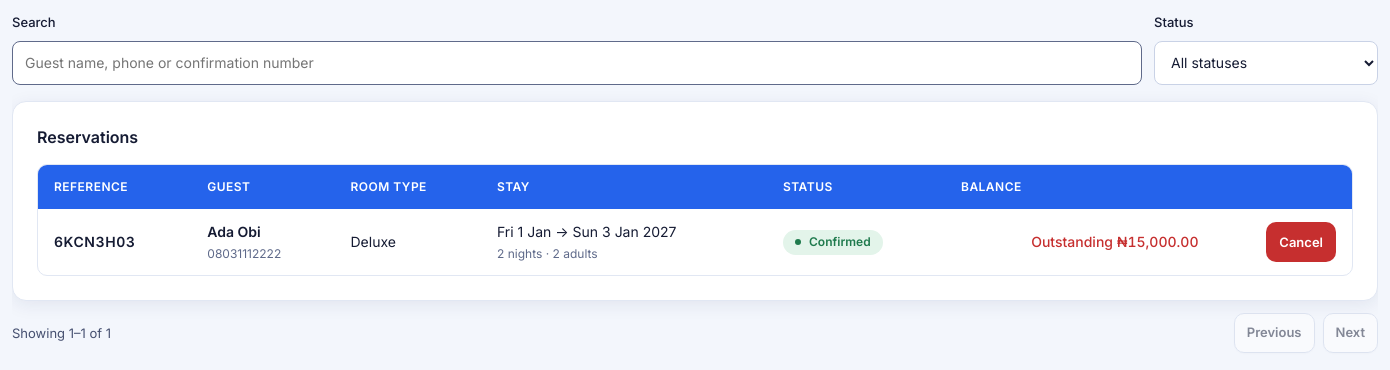
Test: <ReservationsListTab> › filters by status and says so when nothing matches
The width and height of the screenshot is (1390, 370).
Expected: the text "Ada Obi" is shown, left=207, top=223, right=261, bottom=240
Select "No-show" in the dropdown labelled "Status": {"x": 1266, "y": 63} left=1154, top=41, right=1378, bottom=85
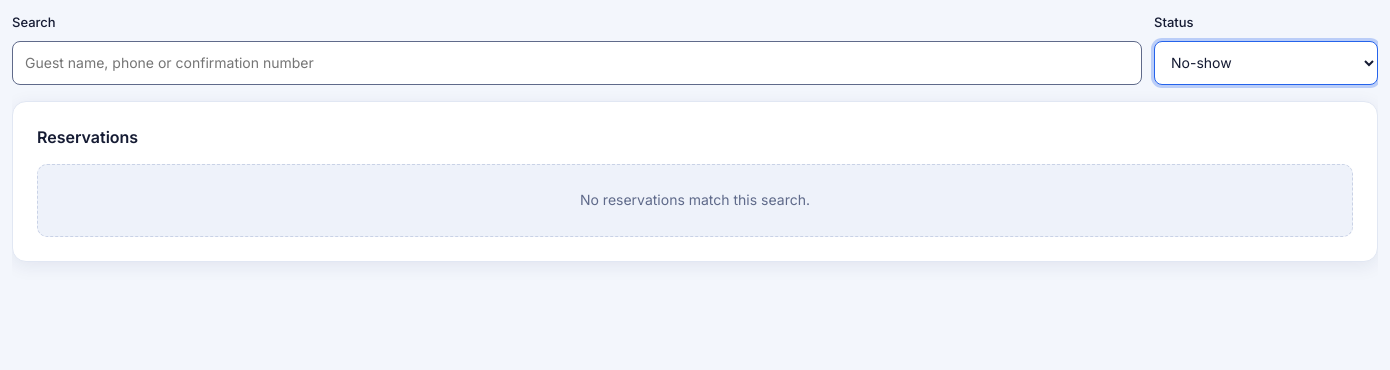
Expected: the text "No reservations match this search." is shown, left=580, top=189, right=810, bottom=212
